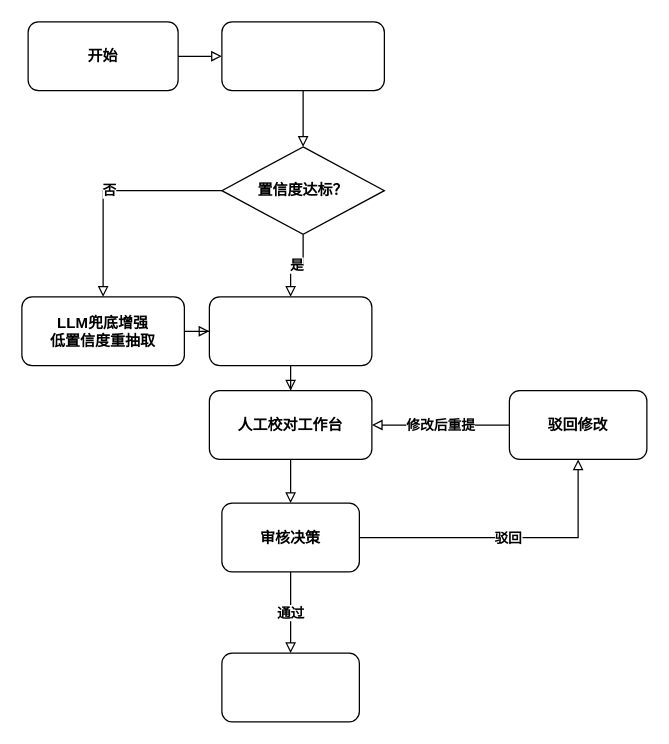
Some shapes in this 669 by 744 pixel diagram are drawn without their labels. The centre of each missing label's shape, as x and y in pixels:
"智能识别 OCR + NLP" belongs at (302,56).
"结构化输出 JSON / 表格 / 文本" belongs at (290,331).
"通过归档" belongs at (290,687).
